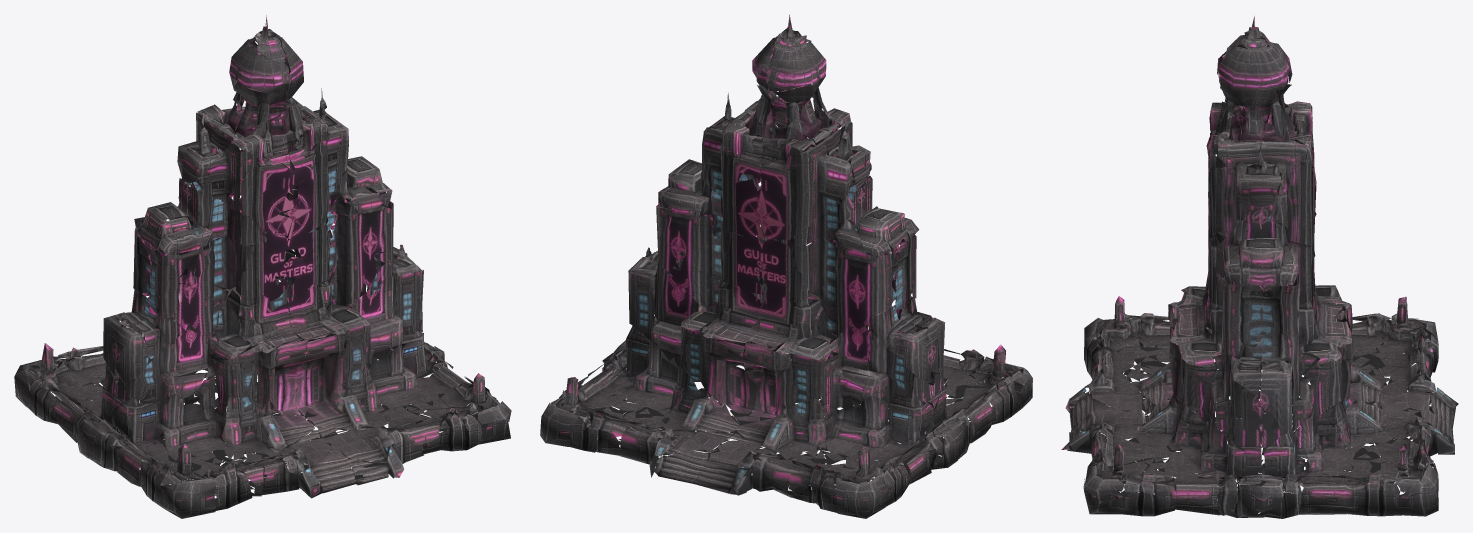
File: s12GuildOfMasters_LOD1.glb
The picture shows the model from 3 angles, left to right: view 1: azimuth 30°, elevation 25°; view 2: azimuth 150°, elevation 25°; view 3: azimuth 270°, elevation 25°; orthographic projection. The views are drawn at different scales.
Visible parts, largest first — view 1: Mesh_0.009; view 2: Mesh_0.009; view 3: Mesh_0.009.
Boxes of the visible parts, box(x1,y1,x2,y2) form: Mesh_0.009: box(14, 15, 511, 518); Mesh_0.009: box(540, 14, 1032, 518); Mesh_0.009: box(1061, 16, 1458, 518).
Size of the model in its own units: 1.71 by 1.9 by 1.63.
Materials: 1 (1 with a texture image).
